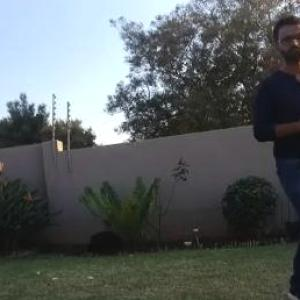follow: (249, 0, 300, 299)
